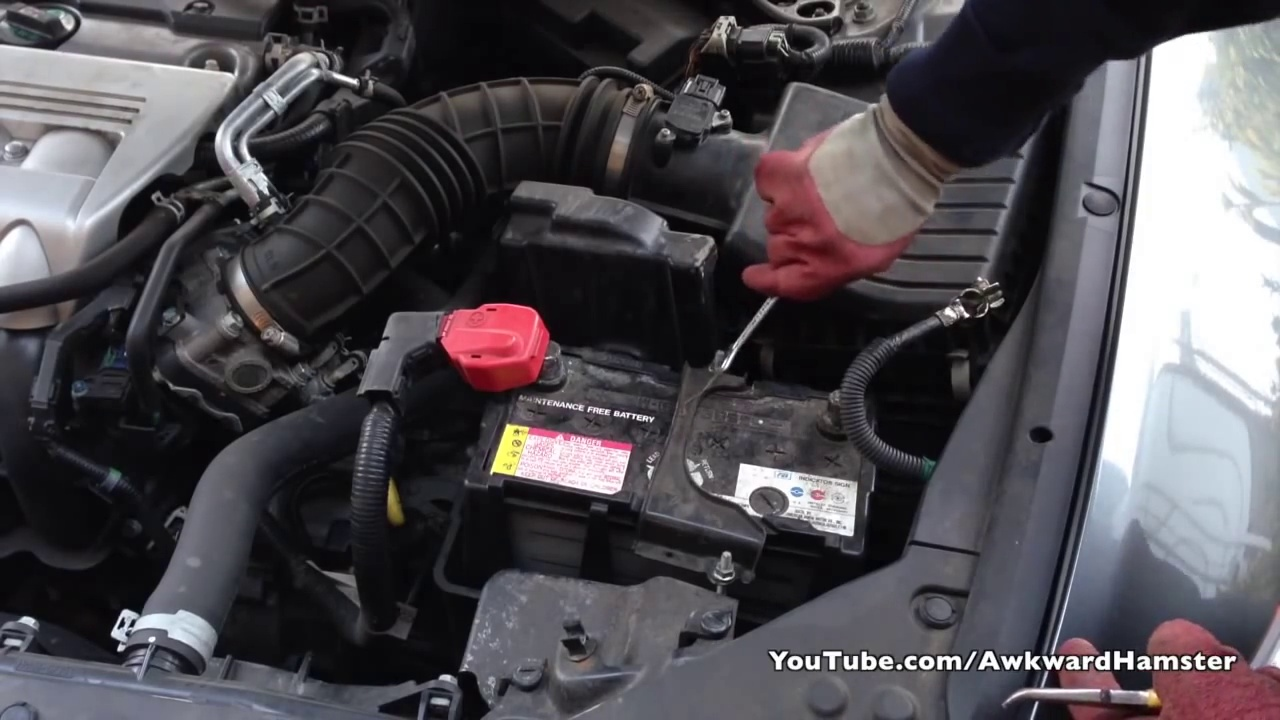battery: (435, 319, 867, 554)
neg_disconnected: (792, 363, 877, 449)
pos_connected: (413, 288, 591, 404)
